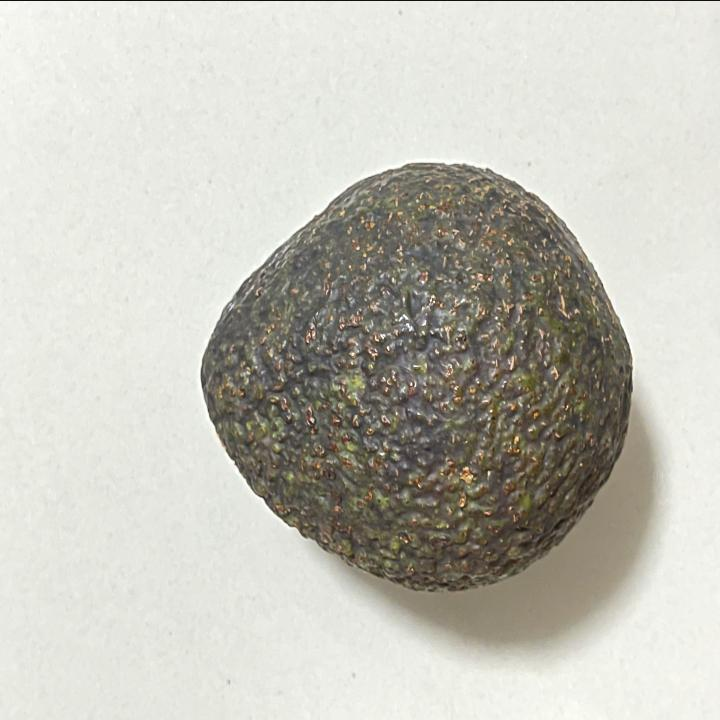Level1: (180, 143, 646, 608)
